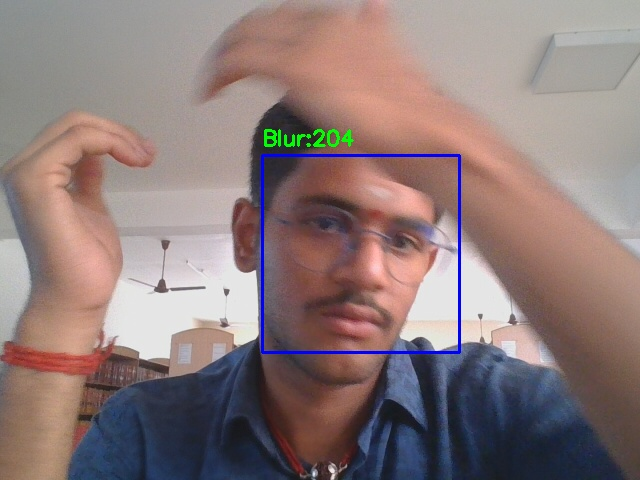real: (262, 155, 459, 352)
